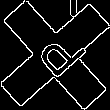P_SW: (24, 24, 86, 86)
